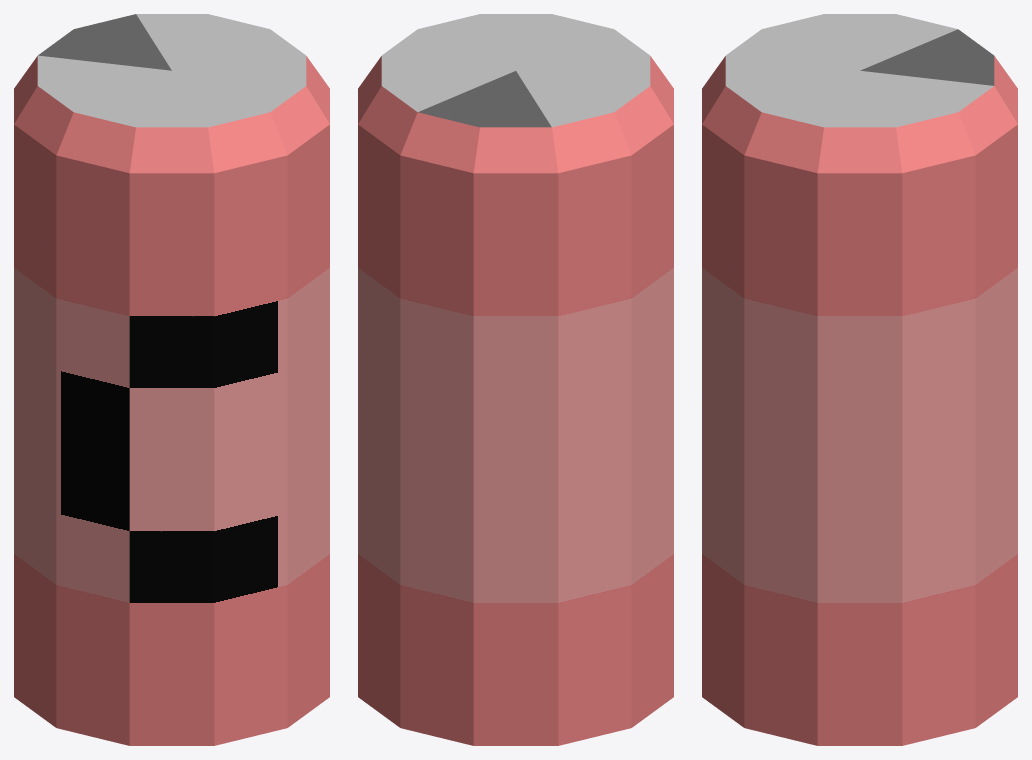
File: Can.fbx
3 renders of one model, left to right at view 1: azimuth 30°, elevation 25°; view 2: azimuth 150°, elevation 25°; view 3: azimuth 270°, elevation 25°, orthographic.
Parts seen in each view (by area): view 1: cylinder; view 2: cylinder; view 3: cylinder.
Boxes of the visible parts, x1=… form: cylinder: x1=14, y1=14, x2=329, y2=745; cylinder: x1=358, y1=14, x2=673, y2=745; cylinder: x1=702, y1=14, x2=1017, y2=745.
Bounding box in the file's own units: 25 × 53.12 × 25.
Materials: 1 (1 with a texture image).
